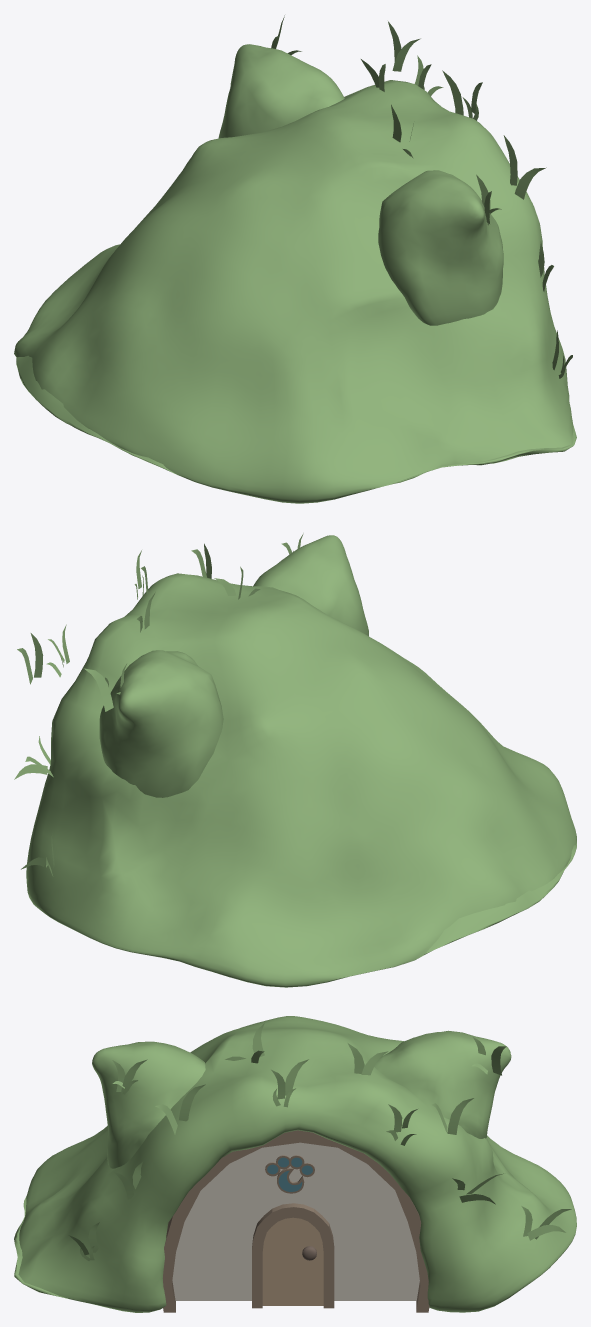
File: Casa_v3.fbx
3 views of the same model, one above another, from view 1: azimuth 30°, elevation 25°; view 2: azimuth 150°, elevation 25°; view 3: azimuth 270°, elevation 25° (orthographic). The views are drawn at different scales.
Visible parts, largest first — view 1: Casa_pasto, Casa_Oreja, Casa_Oreja1; view 2: Casa_pasto, Casa_Oreja1, Casa_Oreja; view 3: Casa_pasto, Pared, Casa_Oreja1, Casa_Oreja, Puerta, Techo1, Puerta1.
Part boxes in pixels (x1,y1,x2,y2): Casa_pasto: (14,80,576,503); Casa_Oreja: (378,170,503,325); Casa_Oreja1: (218,44,344,138); Casa_pasto: (26,573,576,987); Casa_Oreja1: (99,650,223,797); Casa_Oreja: (253,535,368,636); Casa_pasto: (14,1016,576,1312); Pared: (172,1142,419,1300); Casa_Oreja1: (374,1030,511,1138); Casa_Oreja: (92,1041,205,1168); Puerta: (262,1217,323,1305); Techo1: (163,1130,429,1312); Puerta1: (252,1203,334,1308).
Bounding box in the file's own units: 13.05 × 7.71 × 15.68.
